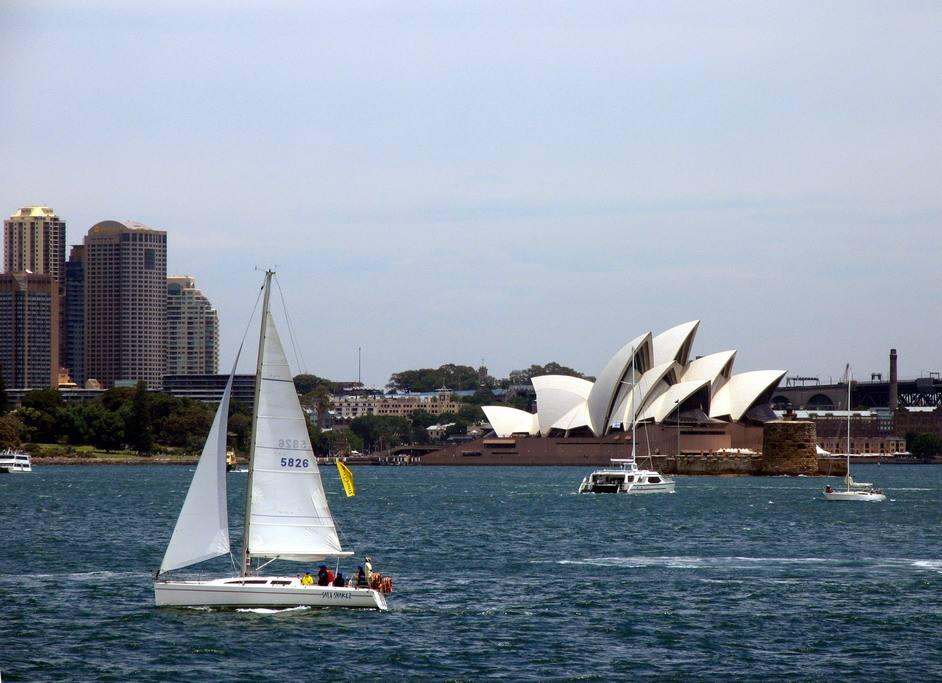fanchuan: (150, 269, 384, 619)
otherboat: (579, 458, 677, 501), (813, 481, 886, 506)
